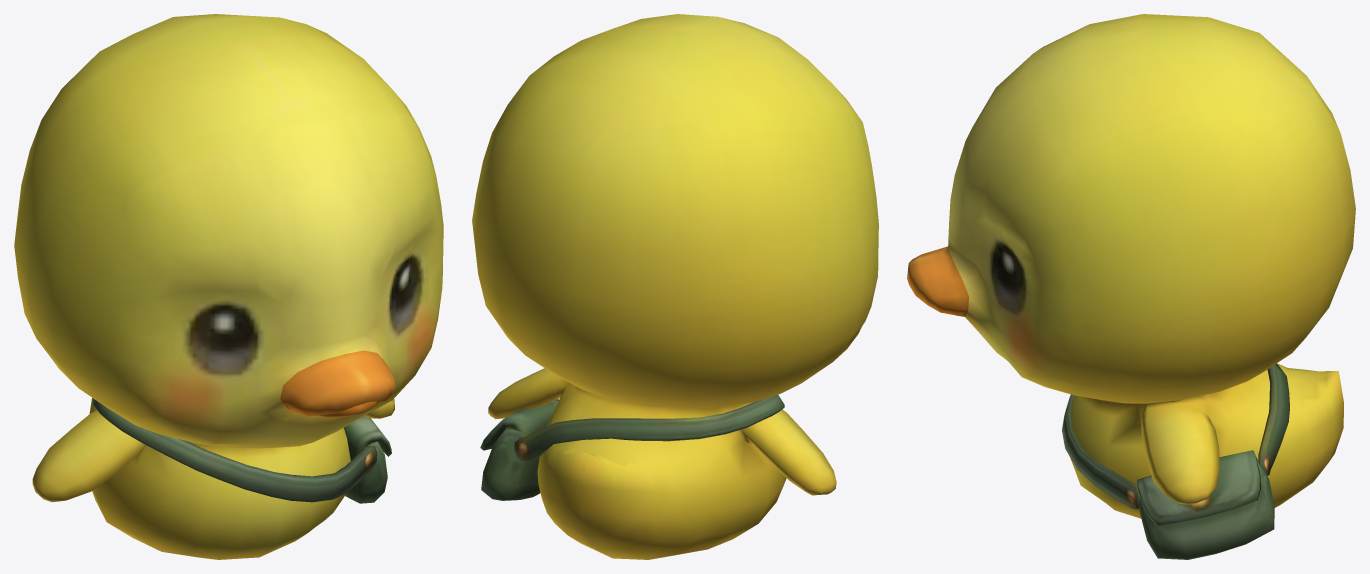
File: pet_00027.glb
3 views of the same model, side by side, from view 1: azimuth 30°, elevation 25°; view 2: azimuth 150°, elevation 25°; view 3: azimuth 270°, elevation 25° (orthographic). The views are drawn at different scales.
Size of the model in its own units: 0.7588 by 1 by 0.8575.
Materials: 2 (2 with a texture image).
